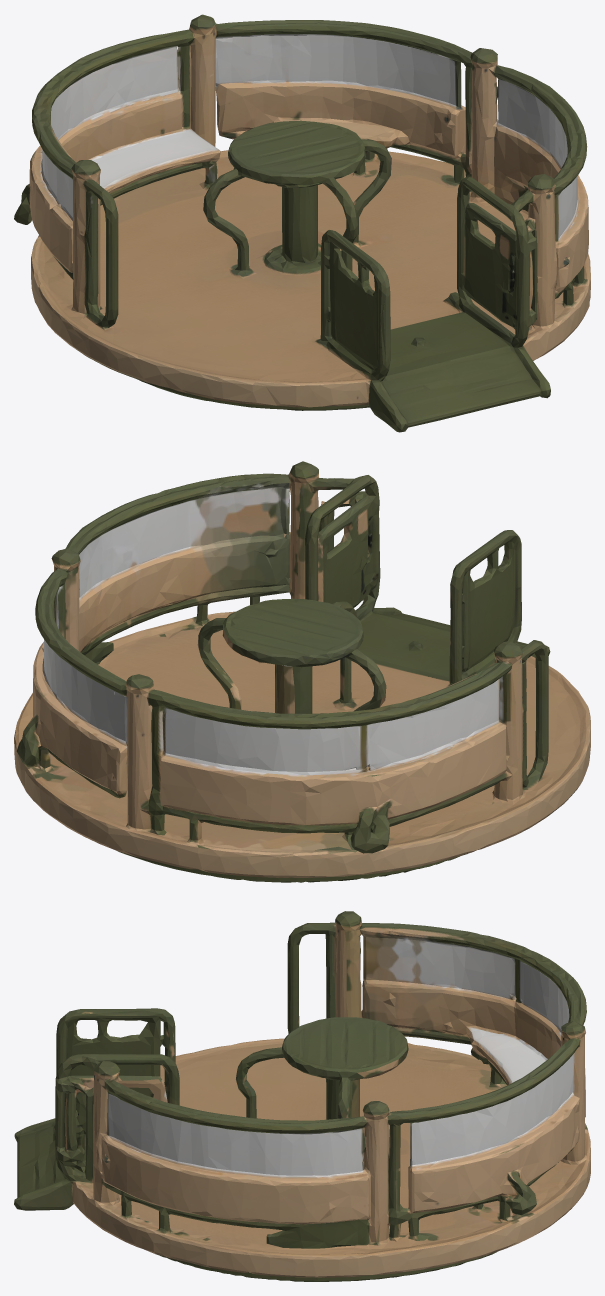
File: play-carousel.glb
The picture shows the model from 3 angles, top to bottom: view 1: azimuth 30°, elevation 25°; view 2: azimuth 150°, elevation 25°; view 3: azimuth 270°, elevation 25°; orthographic projection. The views are drawn at different scales.
Parts seen in each view (by area): view 1: textured_mesh.obj; view 2: textured_mesh.obj; view 3: textured_mesh.obj.
Part boxes in pixels (bbox=[...]): textured_mesh.obj: bbox=[14, 14, 590, 432]; textured_mesh.obj: bbox=[14, 461, 590, 882]; textured_mesh.obj: bbox=[14, 911, 590, 1281].
Bounding box in the file's own units: 2.7 × 1 × 3.
1 material, 1 textured.
